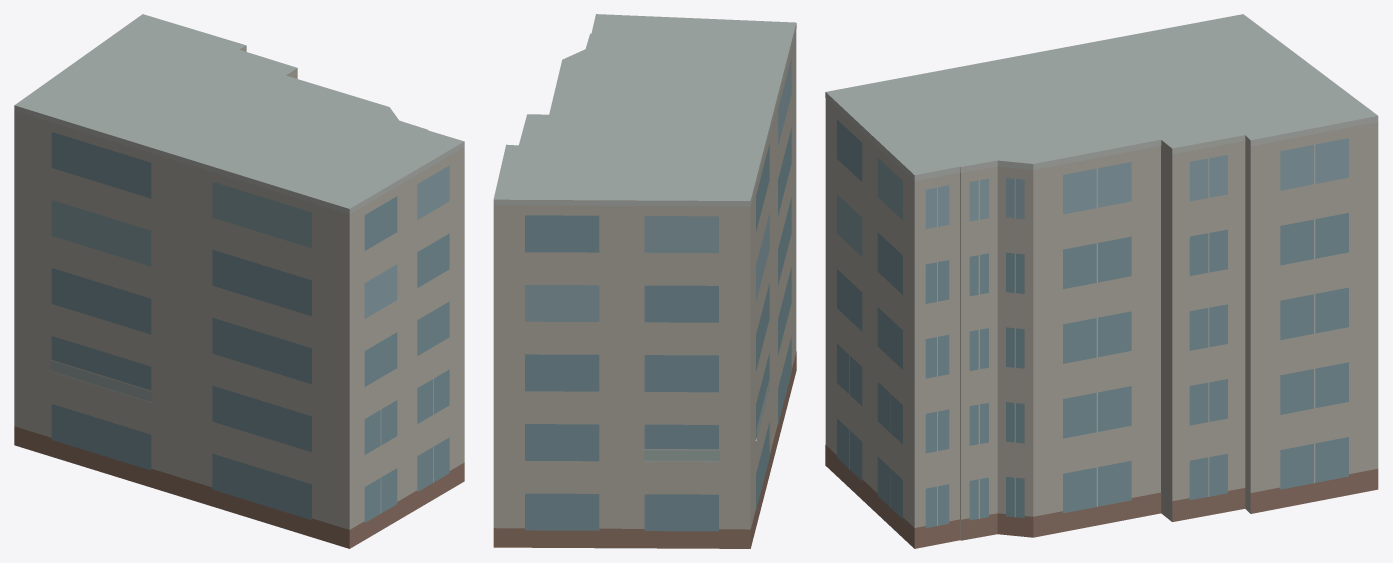
File: survey-upis-32659103.glb
3 views of the same model, side by side, from view 1: azimuth 30°, elevation 25°; view 2: azimuth 150°, elevation 25°; view 3: azimuth 270°, elevation 25° (orthographic). The views are drawn at different scales.
Parts seen in each view (by area): view 1: survey-upis-32659103.tmp; view 2: survey-upis-32659103.tmp; view 3: survey-upis-32659103.tmp.
Part boxes in pixels (x1=…): survey-upis-32659103.tmp: x1=14, y1=14, x2=464, y2=548; survey-upis-32659103.tmp: x1=493, y1=14, x2=796, y2=548; survey-upis-32659103.tmp: x1=825, y1=14, x2=1378, y2=548.
Size of the model in its own units: 14.13 by 15.25 by 20.46.
